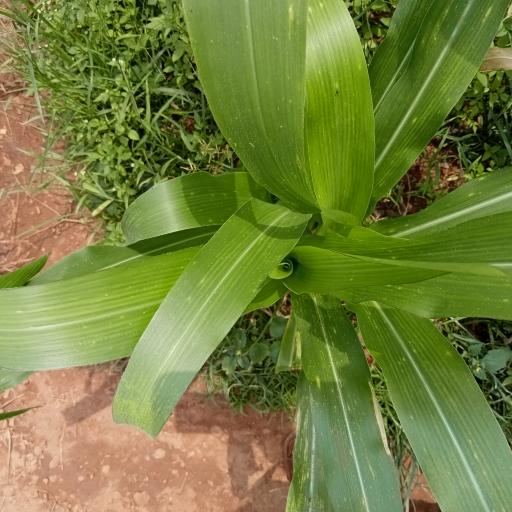Corn_Brown_Spots: (0, 228, 268, 420), (177, 0, 378, 215), (286, 287, 397, 512)
